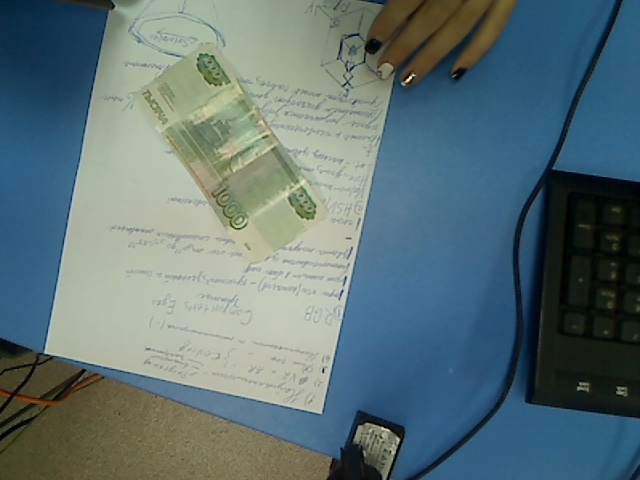banknotes: (134, 40, 330, 266)
